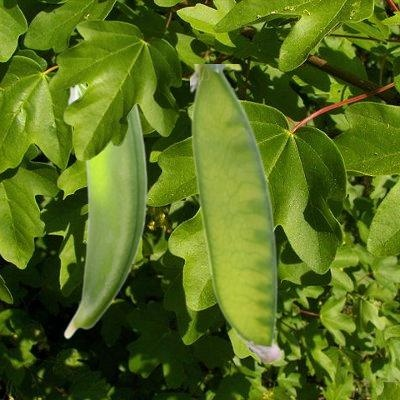pea: (190, 64, 281, 362), (62, 84, 149, 338)
